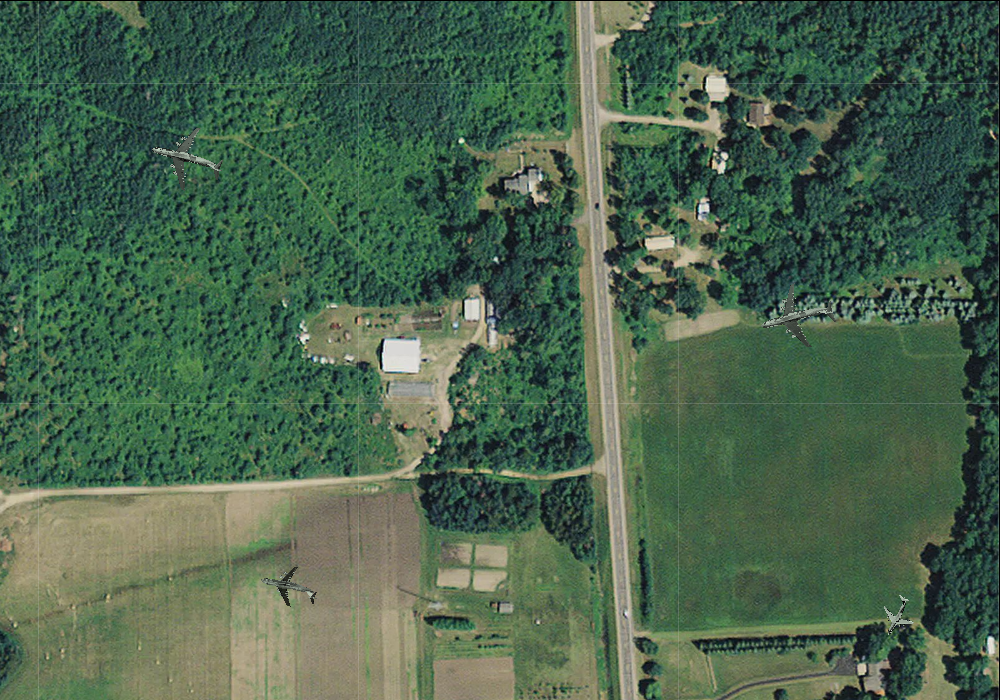plane: (752, 273, 843, 362), (142, 116, 230, 202), (255, 558, 322, 619), (870, 588, 924, 643)
